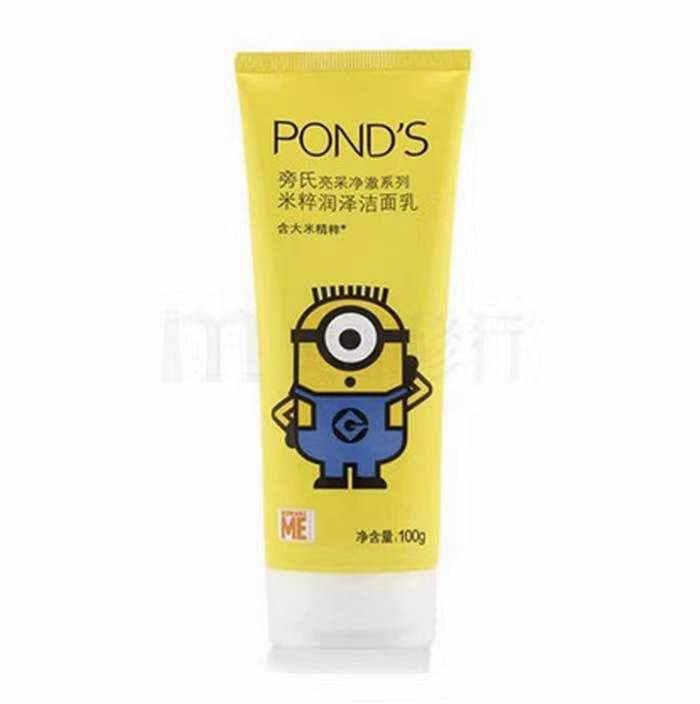cosmetic: (229, 52, 477, 675)
